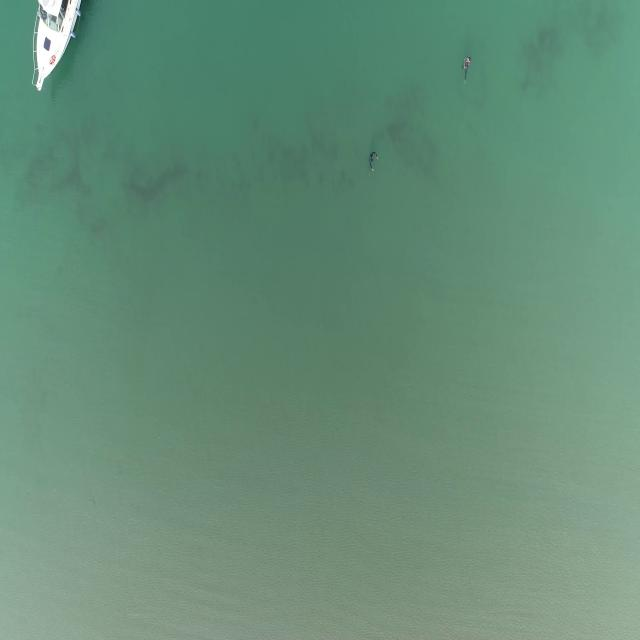boat: (28, 0, 84, 95)
person: (462, 54, 473, 83), (367, 151, 381, 173)
